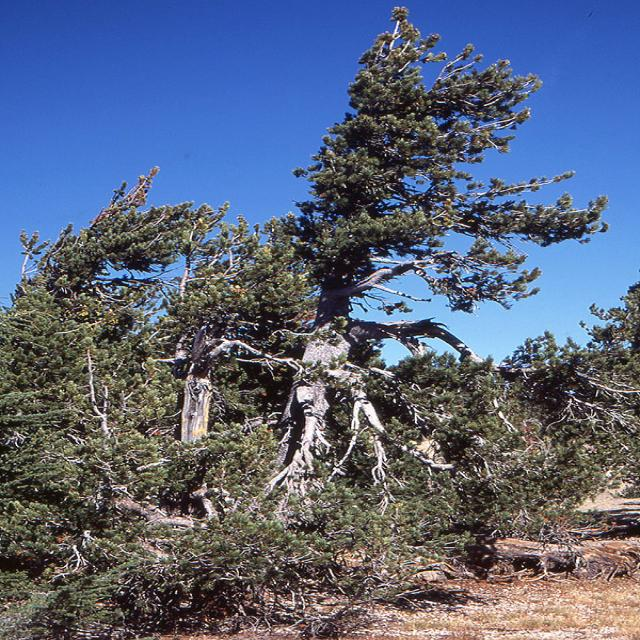Pinus albicaulis: (119, 5, 608, 543)
